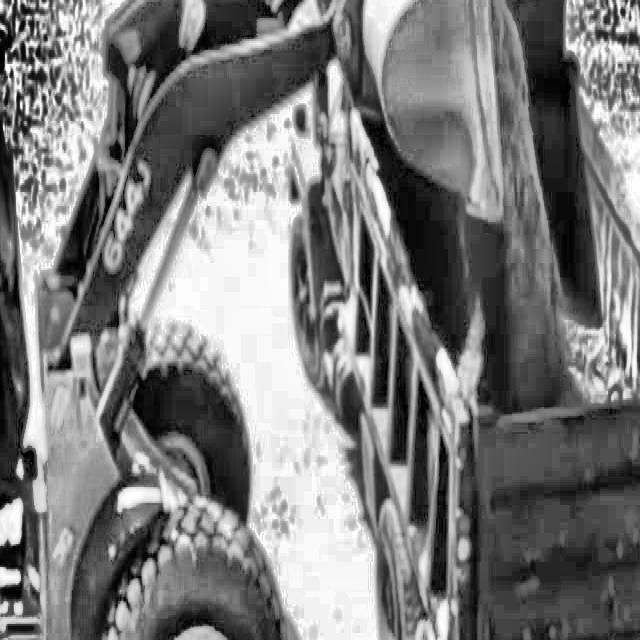buldozerpayloadergrader: (0, 0, 512, 640)
dump_truck: (276, 0, 640, 640)
